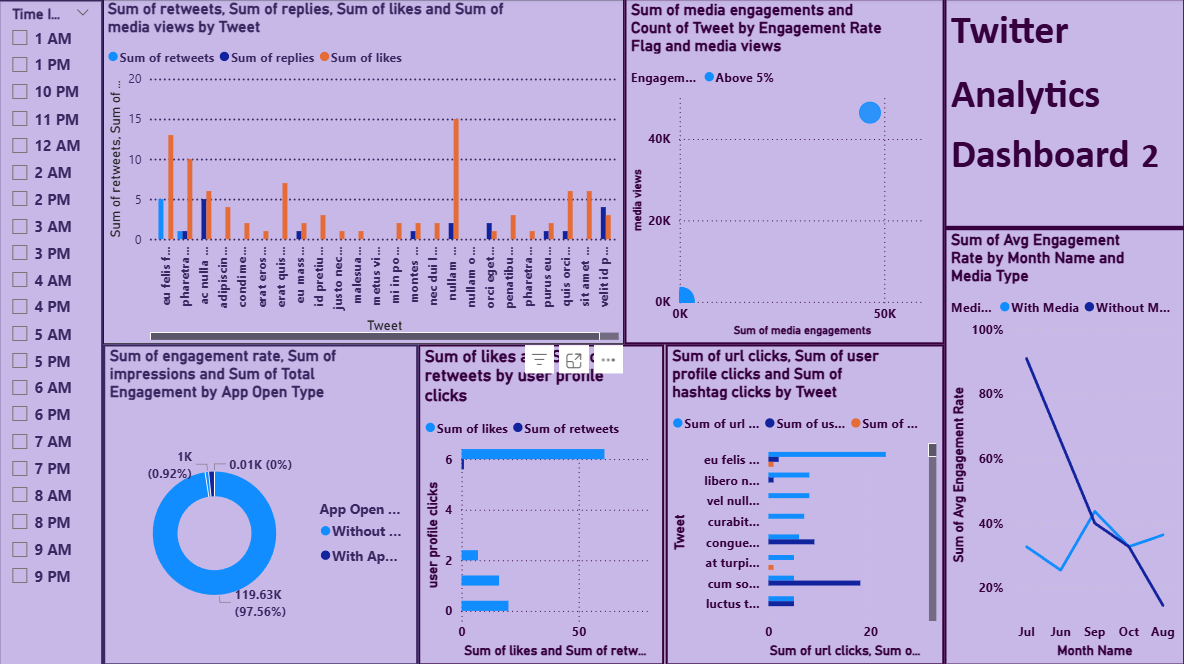

The dashboard page shown, as its layout file describes it:
{"tool":"powerbi","page":{"name":"Page 1","canvas":[1280,720],"ordinal":0},"visuals":[{"type":"scatterChart","fields":{"Y":["SocialMedia (1).media views"],"X":["Sum(SocialMedia (1).media engagements)"],"Series":["SocialMedia (1).Engagement Rate Flag"],"Size":["Count(SocialMedia (1).Tweet)"]},"box":[674.5,0,345.4,373.7],"z":0},{"type":"textbox","box":[1019.9,0,260.4,248.2],"z":1000},{"type":"clusteredBarChart","fields":{"Category":["SocialMedia (1).Tweet"],"Y":["Sum(SocialMedia (1).url clicks)","Sum(SocialMedia (1).user profile clicks)","Sum(SocialMedia (1).hashtag clicks)"]},"box":[719.1,373.7,300.8,346.7],"z":2000},{"type":"clusteredBarChart","fields":{"Y":["Sum(SocialMedia (1).likes)","Sum(SocialMedia (1).retweets)"],"Category":["SocialMedia (1).user profile clicks","SocialMedia (1).Tweet"]},"box":[453.3,373.7,265.8,346.7],"z":3000},{"type":"lineChart","fields":{"Category":["SocialMedia (1).Month Name"],"Series":["SocialMedia (1).Media Type"],"Y":["Sum(SocialMedia (1).Avg Engagement Rate)"]},"box":[1019.9,248.2,260.4,472.2],"z":4000},{"type":"slicer","fields":{"Values":["SocialMedia (1).Time IST "]},"box":[0,1.3,113.3,719.1],"z":5000},{"type":"clusteredColumnChart","fields":{"Category":["SocialMedia (1).Tweet"],"Y":["Sum(SocialMedia (1).retweets)","Sum(SocialMedia (1).replies)","Sum(SocialMedia (1).likes)"]},"box":[113.3,1.3,561.2,372.3],"z":6000},{"type":"donutChart","fields":{"Category":["SocialMedia (1).App Open Type"],"Y":["Sum(SocialMedia (1).engagement rate)","Sum(SocialMedia (1).impressions)","Sum(SocialMedia (1).Total Engagement)"]},"box":[113.3,373.7,340,346.7],"z":6001}]}

Visuals, with their boxes in screenshot pixels (x1, y1, x2, y2), scaled from the page's 1280x720 canvas onto the 1184x664 screenshot:
scatterChart - SocialMedia (1).media views x Sum(SocialMedia (1).media engagements): left=624, top=0, right=943, bottom=345
textbox: left=943, top=0, right=1183, bottom=229
clusteredBarChart - SocialMedia (1).Tweet x Sum(SocialMedia (1).url clicks): left=665, top=345, right=943, bottom=663
clusteredBarChart - Sum(SocialMedia (1).likes) x Sum(SocialMedia (1).retweets): left=419, top=345, right=665, bottom=663
lineChart - SocialMedia (1).Month Name x SocialMedia (1).Media Type: left=943, top=229, right=1183, bottom=663
slicer - SocialMedia (1).Time IST : left=0, top=1, right=105, bottom=663
clusteredColumnChart - SocialMedia (1).Tweet x Sum(SocialMedia (1).retweets): left=105, top=1, right=624, bottom=345
donutChart - SocialMedia (1).App Open Type x Sum(SocialMedia (1).engagement rate): left=105, top=345, right=419, bottom=663
